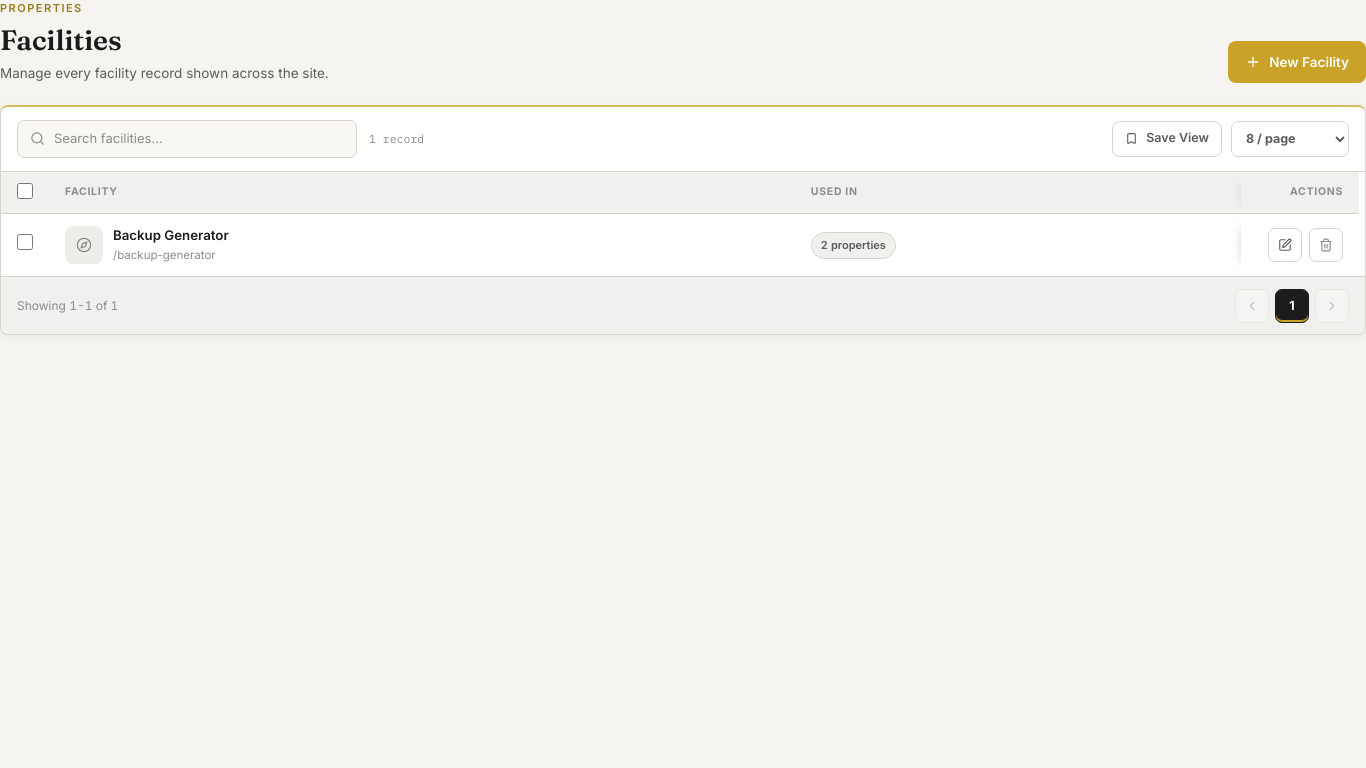
Scenario: LookupManager › allows deleting a facility without deleting its properties
Click the button named "Delete Backup Generator".
click(1326, 245)  # box [1309,228,1343,262]
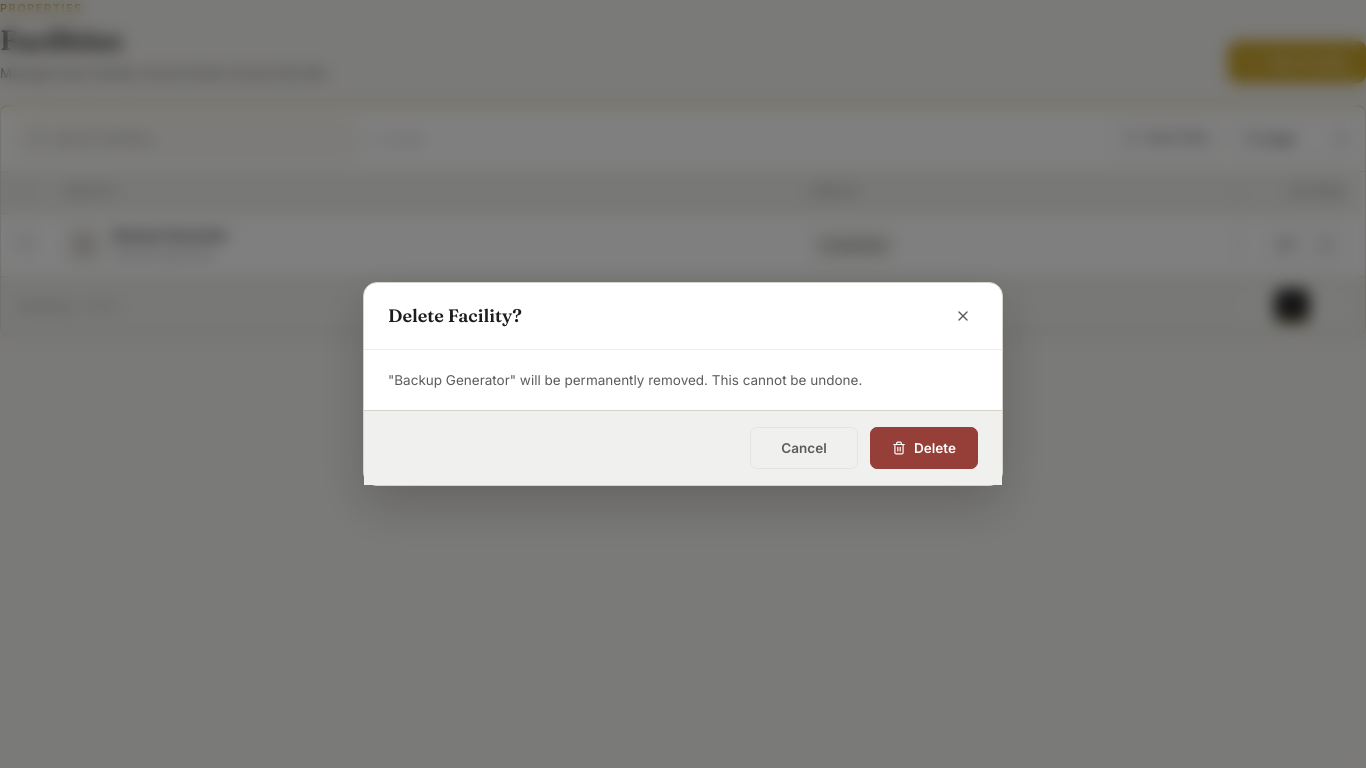
Click the button "Delete".
click(924, 448)  # box [870,427,978,469]
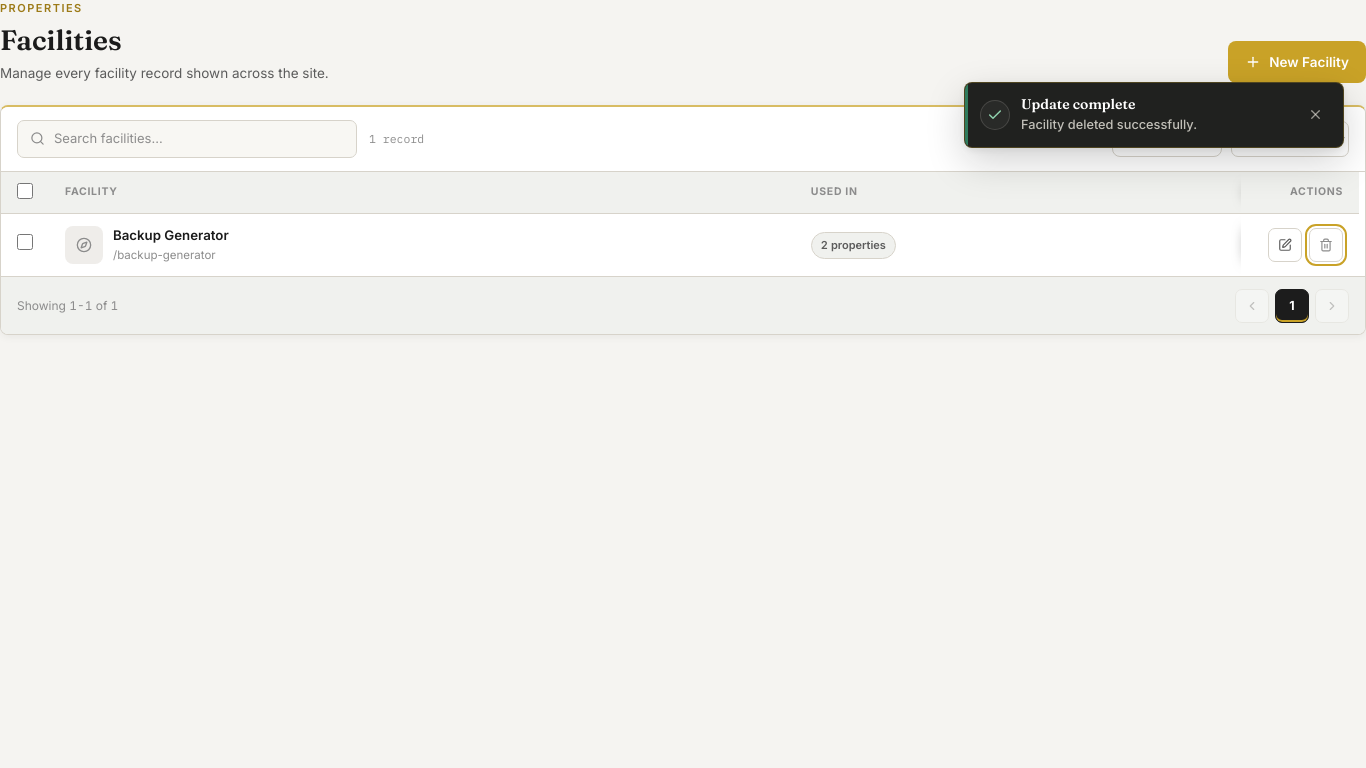
Now the message shows "Facility deleted successfully.", box [1021,116,1197,132]
